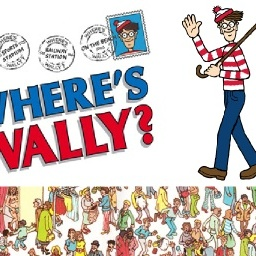waldo: (180, 4, 250, 91), (110, 19, 145, 55), (212, 6, 242, 45)
